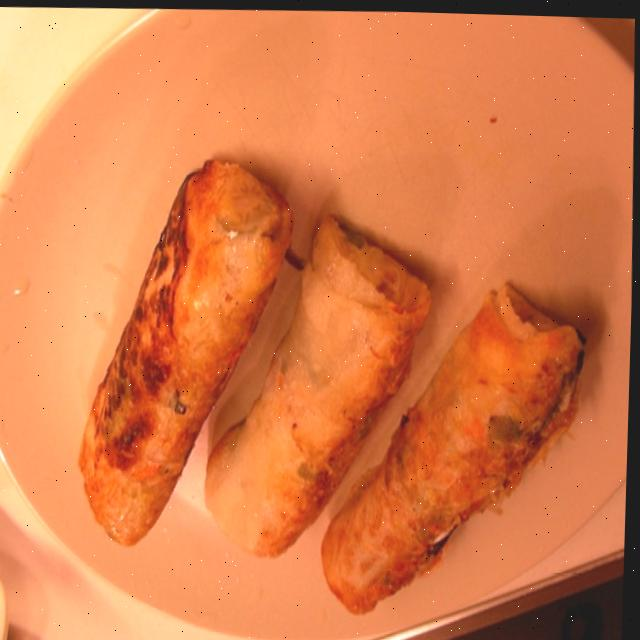炸货点心: (0, 0, 640, 634)
